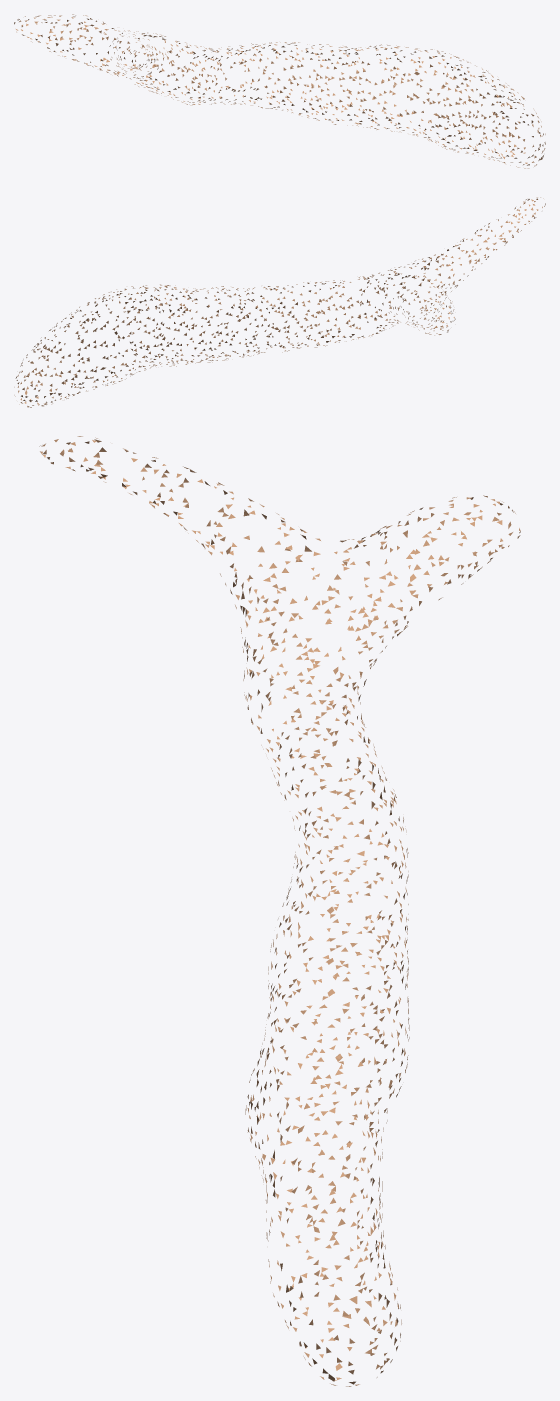
The model's file is morph_005.glb.
3 renders of one model, top to bottom at view 1: azimuth 30°, elevation 25°; view 2: azimuth 150°, elevation 25°; view 3: azimuth 270°, elevation 25°, orthographic. The views are drawn at different scales.
Bounding box in the file's own units: 111 × 59.58 × 49.45.
